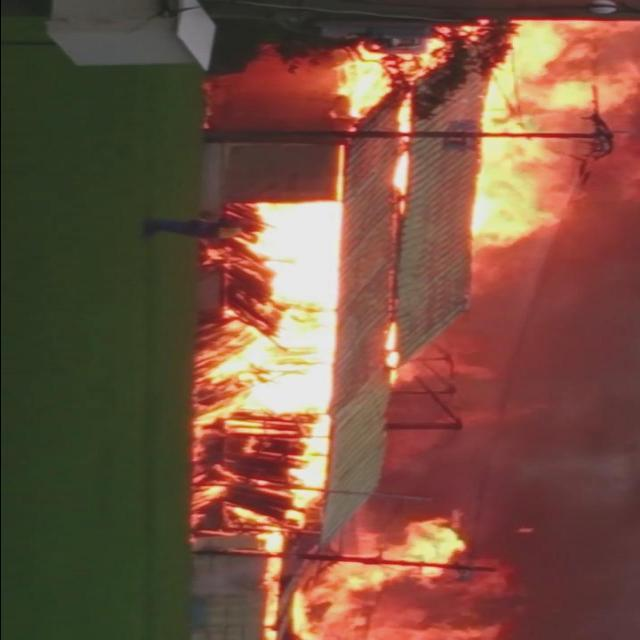Fire: (470, 22, 636, 252), (211, 198, 345, 414), (285, 514, 459, 638), (336, 37, 439, 133), (228, 505, 278, 639), (282, 418, 332, 530), (378, 323, 402, 384), (392, 153, 414, 215), (202, 484, 226, 500)
